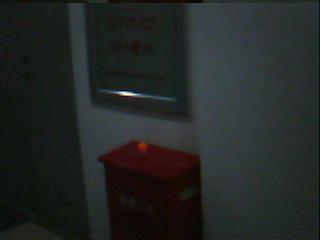oball: (137, 141, 148, 151)
